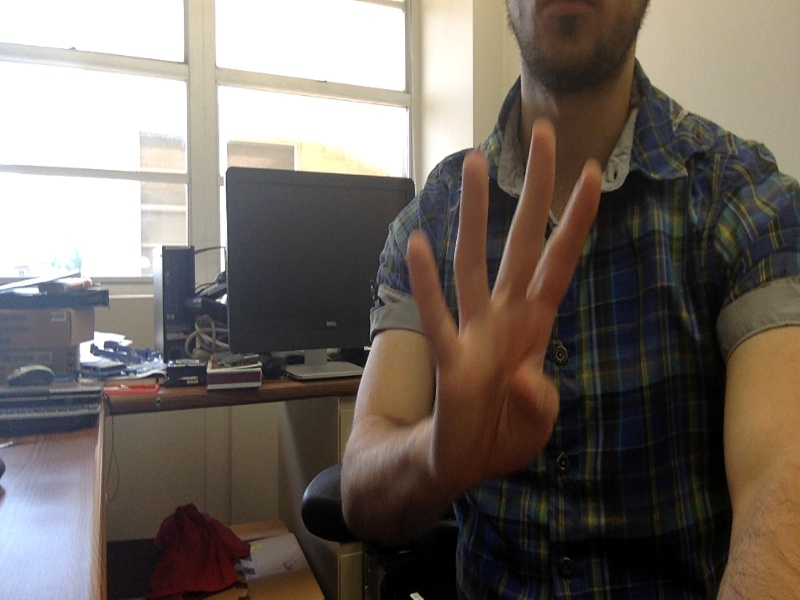4-hand: (406, 124, 608, 474)
